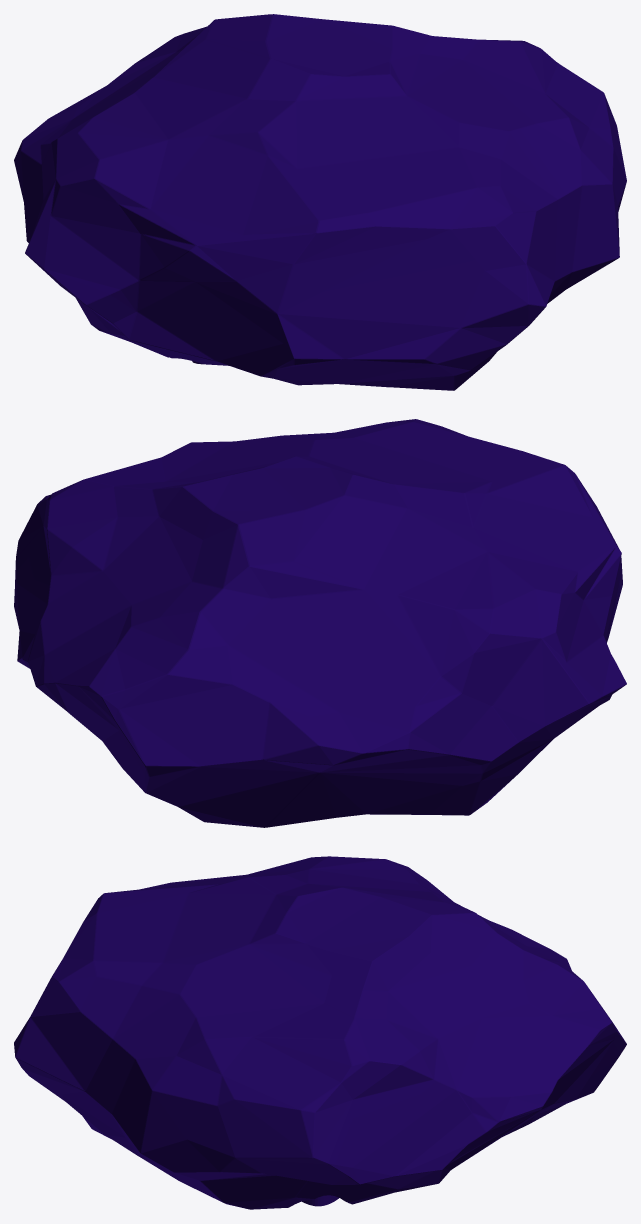
Rendered from reactglb.glb.
3 renders of one model, top to bottom at view 1: azimuth 30°, elevation 25°; view 2: azimuth 150°, elevation 25°; view 3: azimuth 270°, elevation 25°, orthographic. The views are drawn at different scales.
Visible parts, largest first — view 1: Cube.007; view 2: Cube.007; view 3: Cube.007.
Boxes of the visible parts, left/top/right/bottom form: Cube.007: left=14, top=14, right=626, bottom=390; Cube.007: left=14, top=419, right=626, bottom=827; Cube.007: left=14, top=856, right=626, bottom=1209.
Bounding box in the file's own units: 2 × 0.936 × 2.04.
